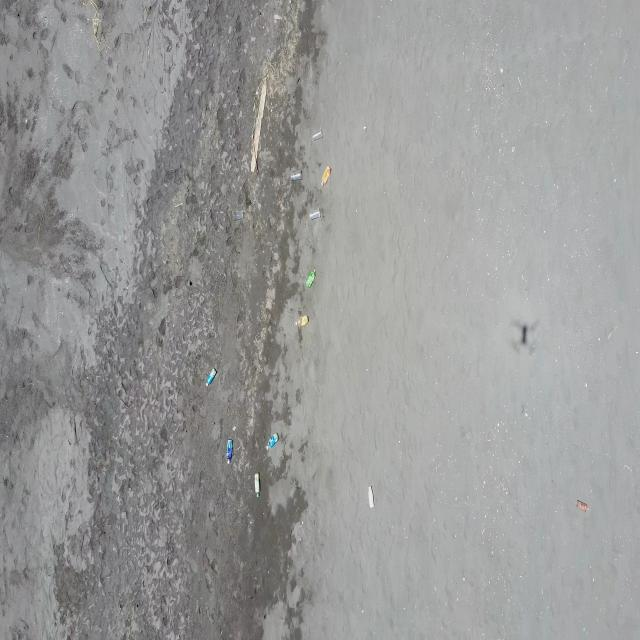plastic-bottle: (321, 165, 332, 187), (266, 432, 279, 450), (205, 367, 216, 388), (295, 314, 309, 327), (306, 269, 316, 287), (226, 439, 233, 464), (254, 472, 260, 498), (367, 486, 374, 508)
takeaway-cup: (310, 208, 322, 220), (290, 171, 302, 182), (233, 210, 244, 222), (313, 129, 323, 141)
